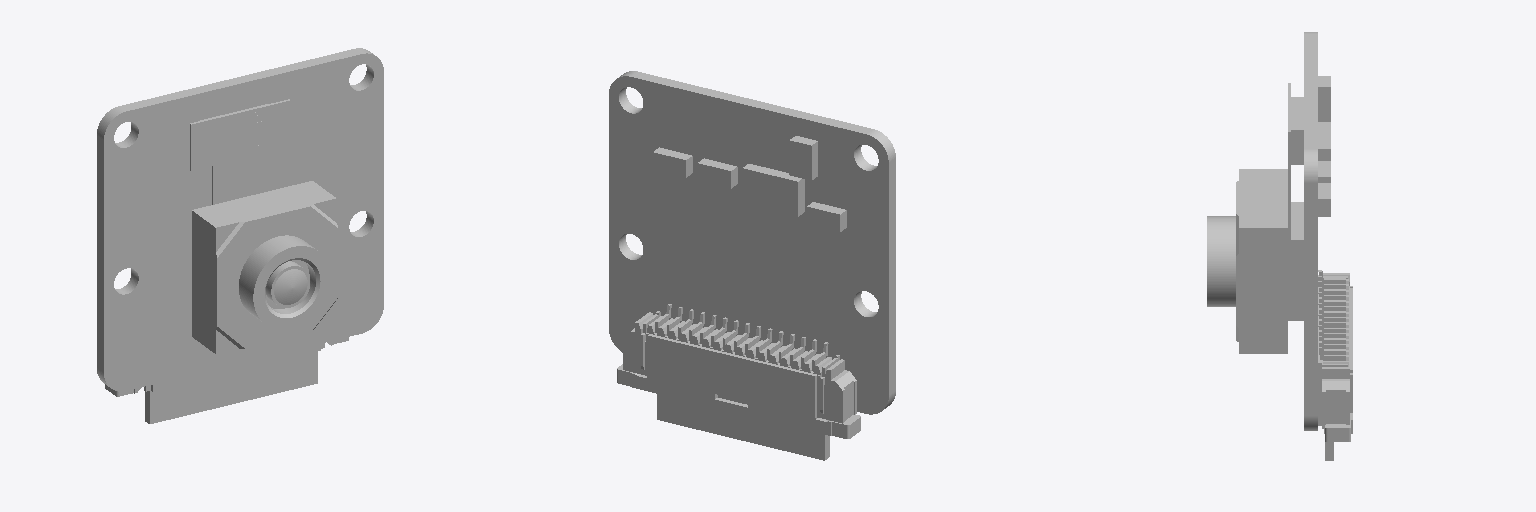
Rendered from Camera Moudule 3 v8.obj.
3 views of the same model, side by side, from view 1: azimuth 30°, elevation 25°; view 2: azimuth 150°, elevation 25°; view 3: azimuth 270°, elevation 25° (orthographic).
Parts seen in each view (by area): view 1: Board, Body1:2, CMOS, Ribbon, Ring, ComponentLanding, MountLanding (1), Body1:1, MountLanding (2), MountLanding, MountLanding (3), Body1 (+3 smaller); view 2: Board, Body1, Body1:3, Ribbon, Body3, MountLanding (1), MountLanding (2), MountLanding, MountLanding (3), Body6, Body2, Body4 (+1 smaller); view 3: Body1:2, Body1, Board, Body1:1, CMOS, Ring, MountLanding, Body6.
Boxes of the visible parts, x1,y1,x2,y2 form: Board: [97, 52, 383, 391]; Body1:2: [201, 188, 337, 353]; CMOS: [190, 99, 290, 204]; Ribbon: [145, 352, 317, 423]; Ring: [239, 235, 331, 329]; ComponentLanding: [160, 327, 327, 382]; MountLanding (1): [97, 103, 152, 162]; Body1:1: [192, 181, 321, 342]; MountLanding (2): [97, 253, 152, 309]; MountLanding: [335, 48, 383, 105]; MountLanding (3): [337, 195, 383, 252]; Body1: [105, 337, 348, 396]; Board: [609, 75, 895, 414]; Body1: [617, 304, 860, 438]; Body1:3: [710, 226, 787, 325]; Ribbon: [657, 394, 829, 460]; Body3: [742, 164, 804, 216]; MountLanding (1): [840, 126, 895, 185]; MountLanding (2): [840, 276, 895, 332]; MountLanding: [609, 71, 657, 128]; MountLanding (3): [609, 218, 657, 274]; Body6: [789, 136, 817, 180]; Body2: [698, 158, 737, 188]; Body4: [653, 147, 692, 177]; Body1:2: [1236, 169, 1267, 353]; Body1: [1318, 270, 1352, 441]; Board: [1304, 41, 1317, 430]; Body1:1: [1268, 169, 1287, 353]; CMOS: [1288, 83, 1303, 320]; Ring: [1207, 216, 1235, 306]; MountLanding: [1304, 142, 1317, 197]; Body6: [1318, 76, 1330, 121].
Bounding box in the file's own units: 25 × 28.06 × 11.35.